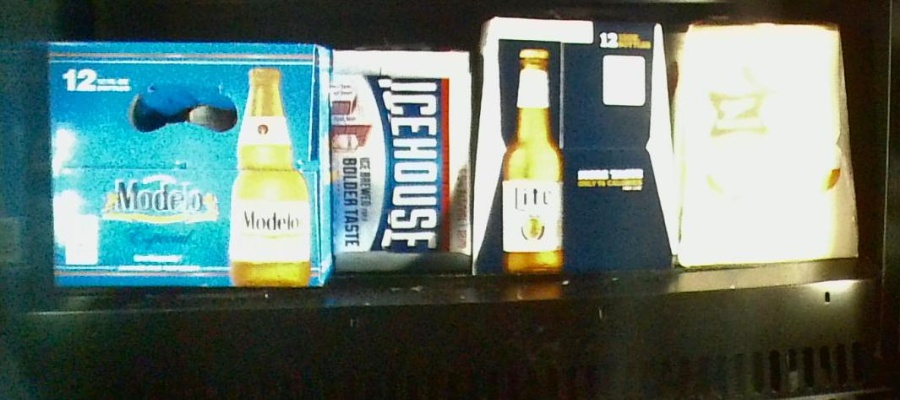bottle: (45, 43, 335, 285), (475, 18, 674, 271), (674, 21, 855, 265), (335, 50, 472, 277)
